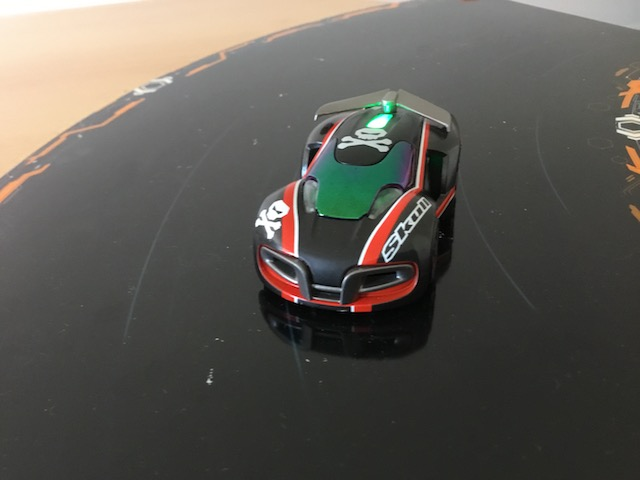car-red: (251, 85, 464, 320)
